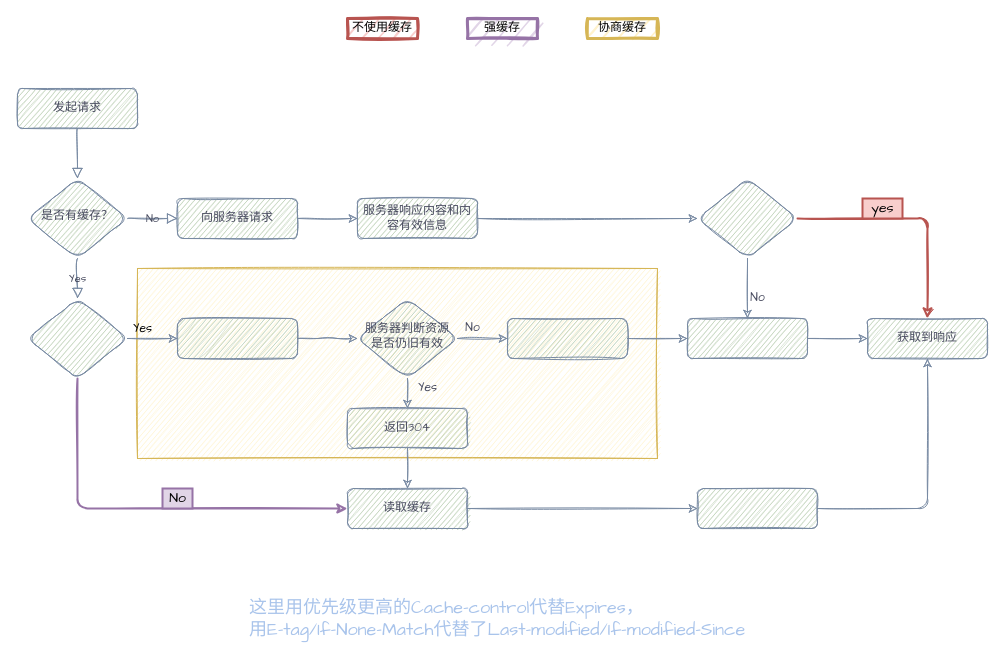
This 1005x658 diagram has some shape labels left out. The centre of each missing label's shape, as x and y in pixels:
"Cache-Control判断缓存是否过期？" goes at [77,338].
"响应头Cache-Control是否含no-store" goes at [747,218].
"将内容有效信息（E-tag）与响应内容写入缓存" goes at [747,338].
"将缓存有效信息（E-Tag）写入请求头（If-None-Match）" goes at [237,338].
"返回200与新的有效信息（E-tag）" goes at [567,338].
"返回缓存" goes at [757,508].
